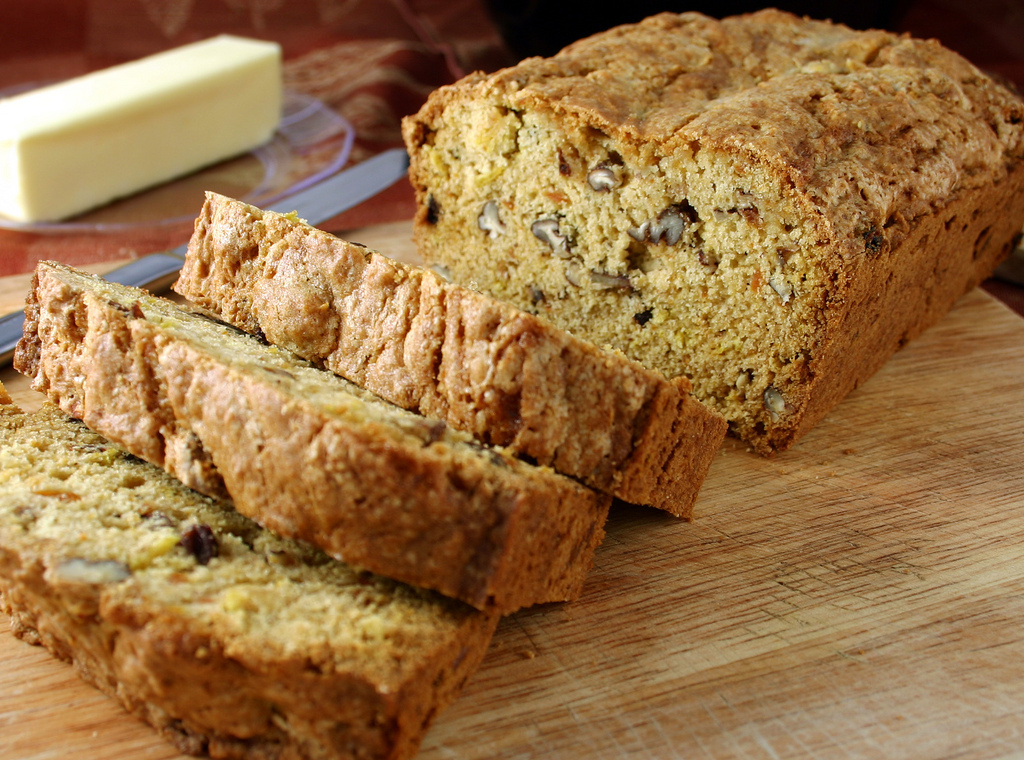slice of bread: (38, 263, 636, 616), (405, 57, 924, 457), (2, 411, 506, 760), (206, 189, 722, 518)
